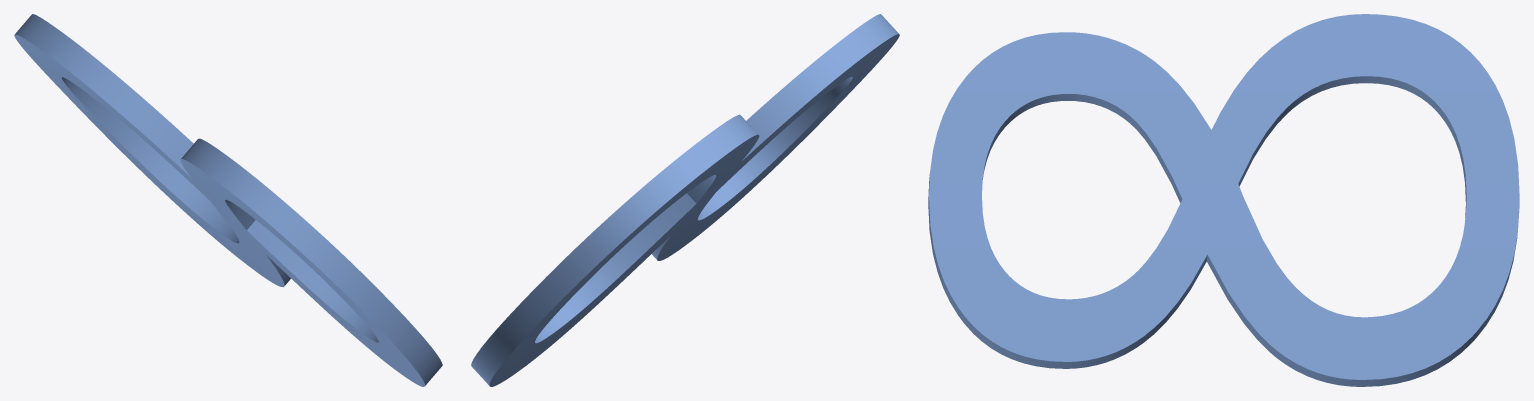
File: New_Number_8.gltf
3 renders of one model, left to right at view 1: azimuth 30°, elevation 25°; view 2: azimuth 150°, elevation 25°; view 3: azimuth 270°, elevation 25°, orthographic. The views are drawn at different scales.
Visible parts, largest first — view 1: Part 260; view 2: Part 260; view 3: Part 260.
Part boxes in pixels (x1=…): Part 260: x1=14, y1=14, x2=442, y2=386; Part 260: x1=471, y1=14, x2=899, y2=386; Part 260: x1=928, y1=14, x2=1519, y2=386.
Bounding box in the file's own units: 0.00248 × 0.00296 × 0.00566.
